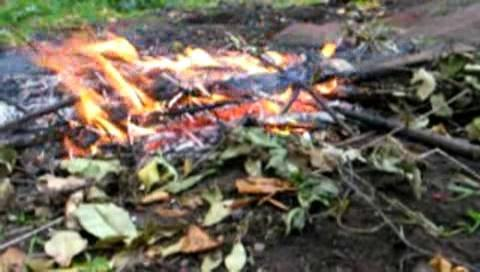fire: (55, 39, 340, 135)
